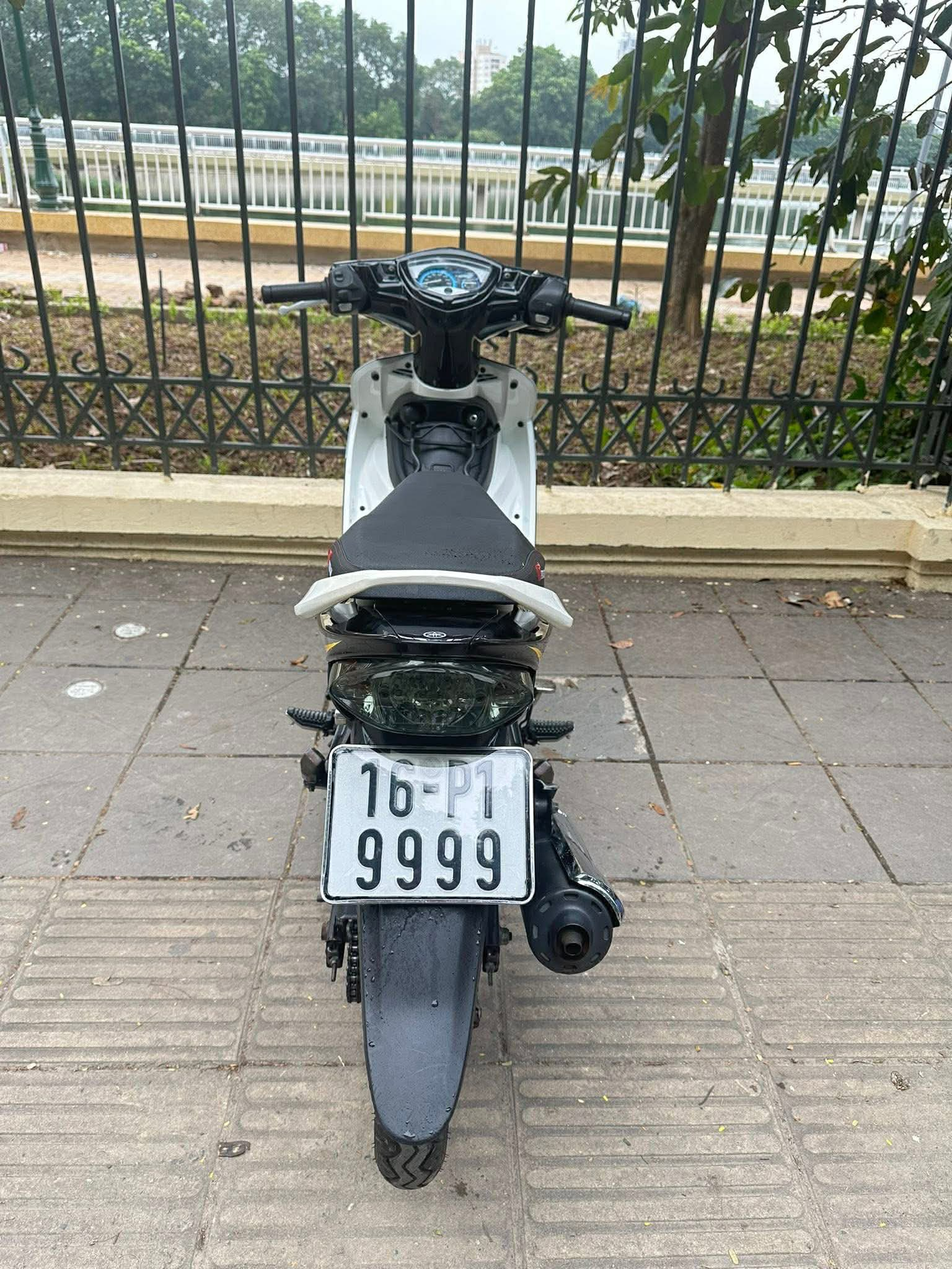bien_so: (311, 734, 547, 917)
